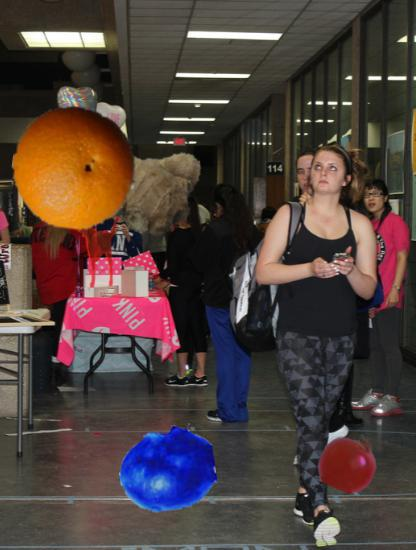Ginger: (99, 133, 201, 235)
Huckleberry: (119, 421, 215, 517)
Orange: (12, 104, 139, 231)
Redcurrant: (319, 432, 379, 492)
